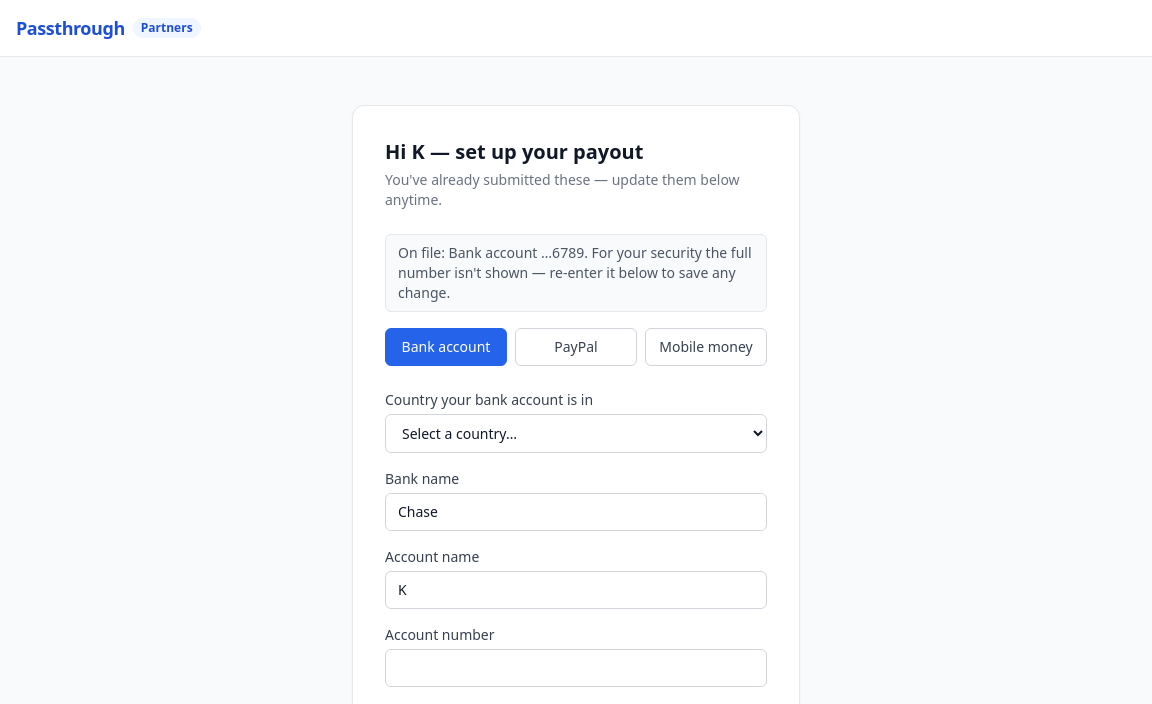
Test: payout page: edits are not silently dropped (round 22) › a changed account name alone gets the same answer instead of "fill in every field"
The image size is (1152, 704).
Replace the text in the field labelled "Account name" with "K Ltd": (576, 590) [385,571,767,609]
(page scrolled)
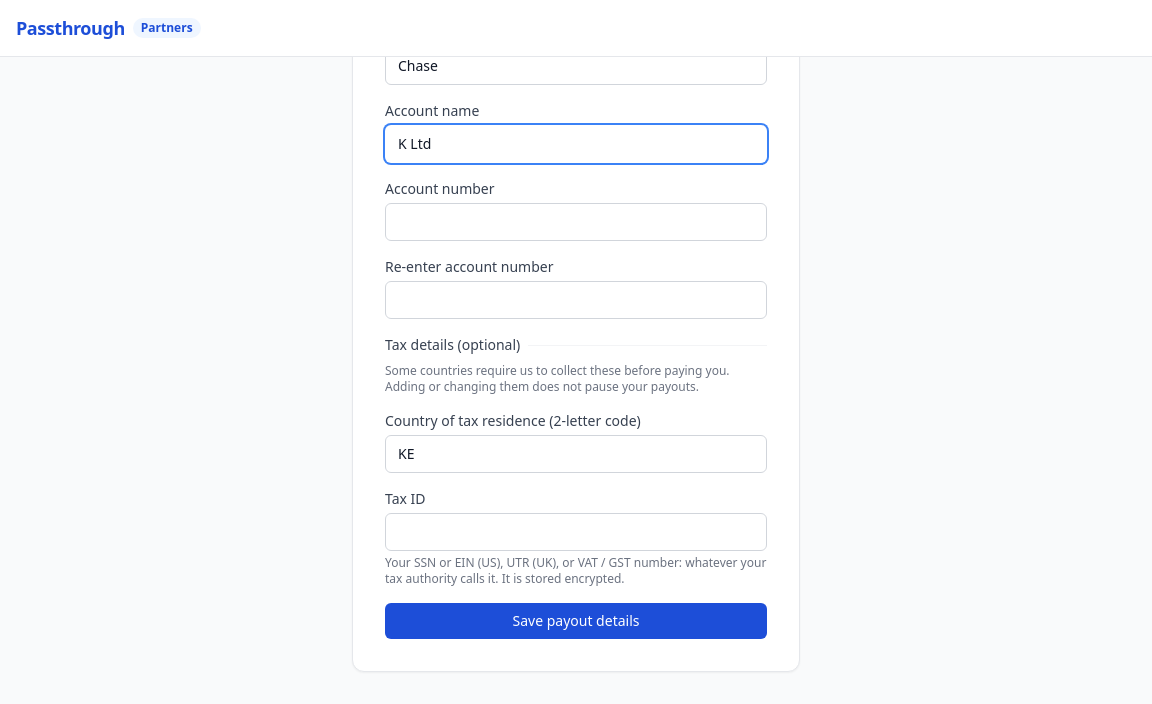
Click the button "Save payout details": (576, 621) [385,603,767,639]
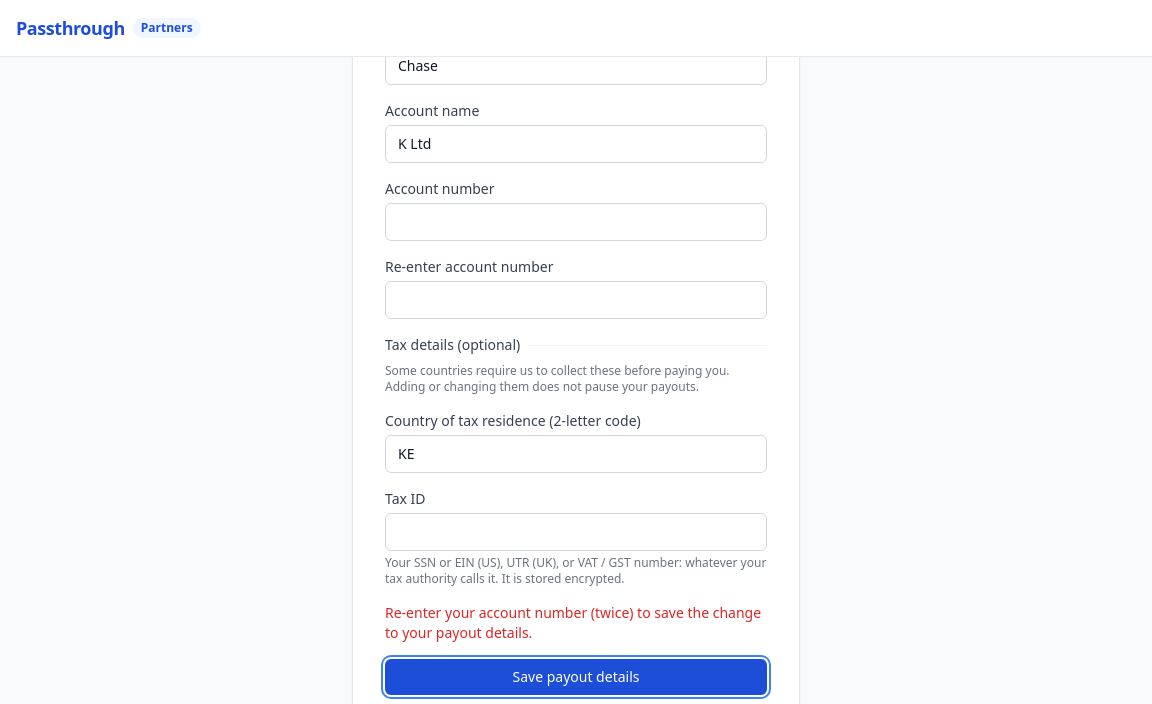
Now the text "Re-enter your account number" is shown, box [385,603,761,642]
